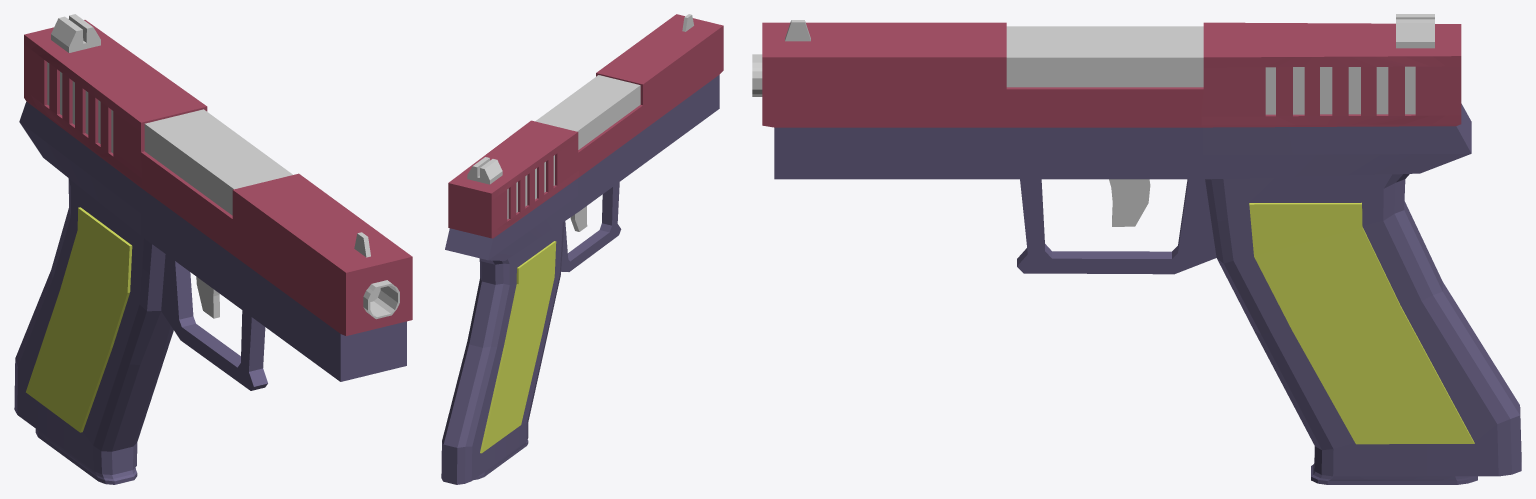
File: Handgun001.fbx
The picture shows the model from 3 angles, left to right: view 1: azimuth 30°, elevation 25°; view 2: azimuth 150°, elevation 25°; view 3: azimuth 270°, elevation 25°; orthographic projection. The views are drawn at different scales.
Parts seen in each view (by area): view 1: Plane; view 2: Plane; view 3: Plane.
Part boxes in pixels (box(x1,y1,x2,y2)): Plane: box(14, 14, 412, 484); Plane: box(441, 14, 723, 484); Plane: box(752, 14, 1521, 484).
Bounding box in the file's own units: 37.15 × 227 × 346.
